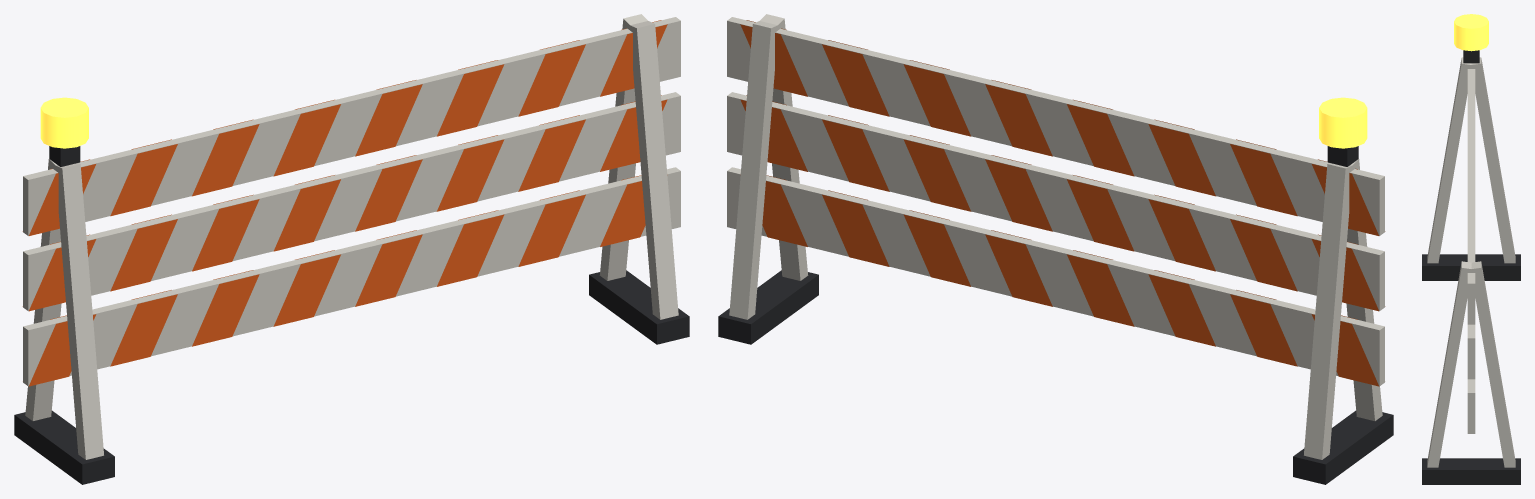
File: barricade.glb
3 views of the same model, side by side, from view 1: azimuth 30°, elevation 25°; view 2: azimuth 150°, elevation 25°; view 3: azimuth 270°, elevation 25° (orthographic). The views are drawn at different scales.
Visible parts, largest first — view 1: barricade; view 2: barricade; view 3: barricade.
Part boxes in pixels (x1,y1,x2,y2): barricade: (14, 14, 689, 484); barricade: (718, 14, 1393, 484); barricade: (1422, 14, 1520, 484).
Bounding box in the file's own units: 10 × 5.12 × 1.8.
